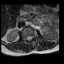CCS_normal: (28, 33, 30, 43)
LFS_normal: (32, 32, 35, 39)
LLS_normal: (30, 33, 32, 41)
RFS_normal: (24, 34, 26, 42)
RLS_normal: (26, 34, 28, 41)
